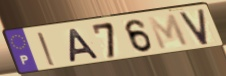6: (124, 18, 155, 54)
7: (90, 21, 118, 60)
A: (68, 27, 102, 64)
I: (35, 31, 58, 68)
M: (145, 12, 191, 52)
V: (177, 7, 211, 47)
